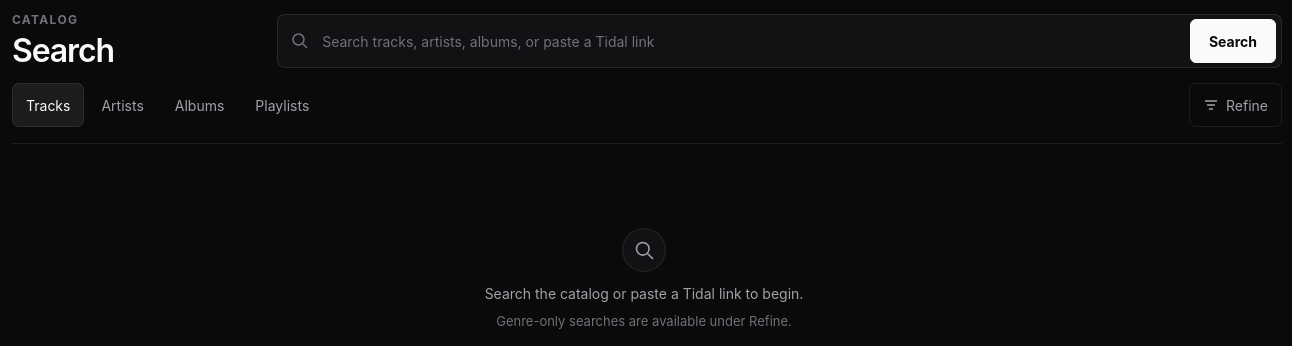
Test: SearchView › shows a retryable request error while preserving the query
The width and height of the screenshot is (1292, 346).
Step 1. Type "Night Drive" into the field labelled "Search tracks, artists, albums, or paste a Tidal link" → (750, 41), box [318, 22, 1181, 60]
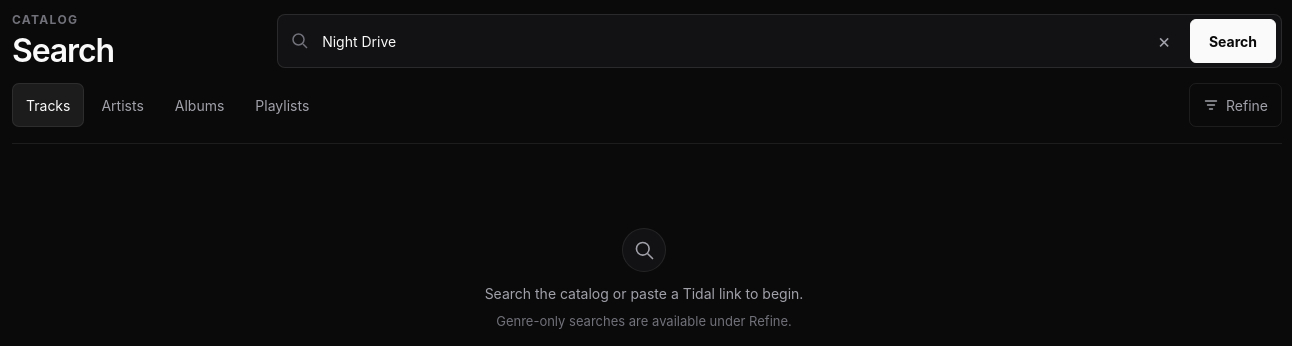
Step 2. Click the button "Search" → (1233, 41), box [1190, 19, 1276, 63]
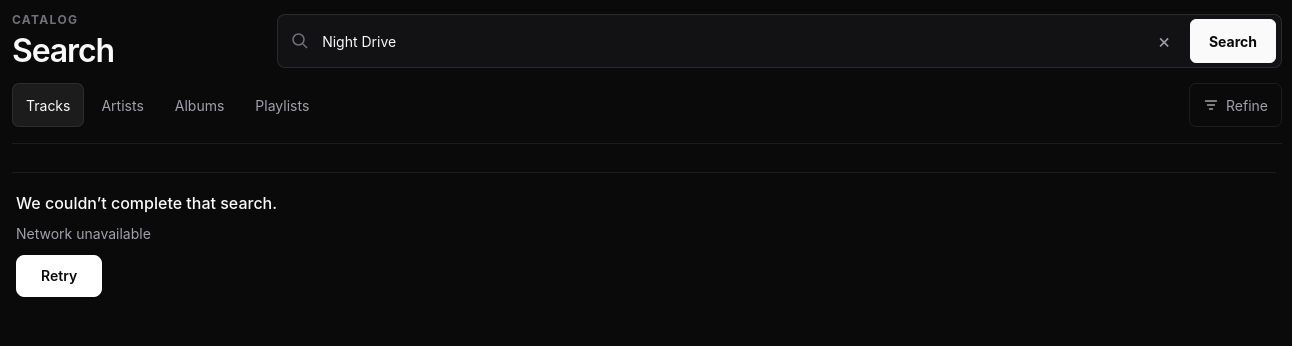
expect the message shows "Network unavailable": met, box [16, 225, 151, 242]
Step 3. Click the button "Retry" → (59, 276), box [16, 255, 102, 297]
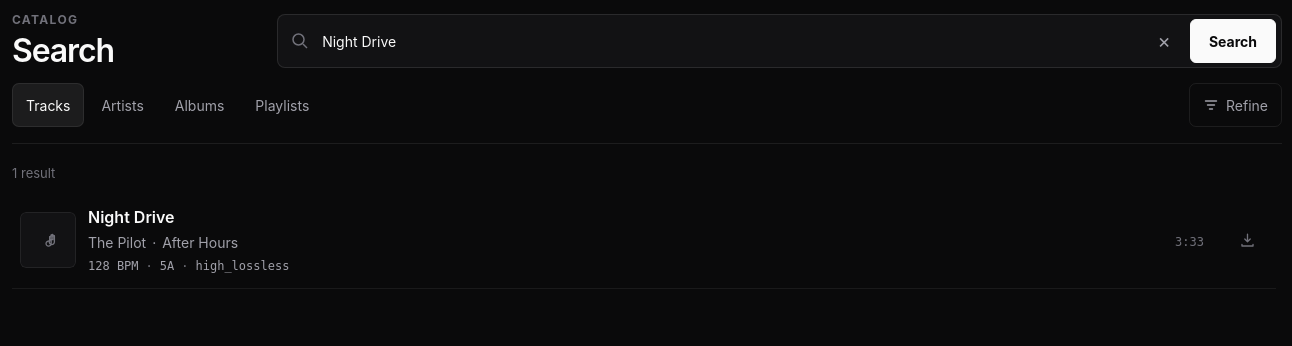
expect the text "Night Drive" is shown: met, box [88, 207, 175, 227]
